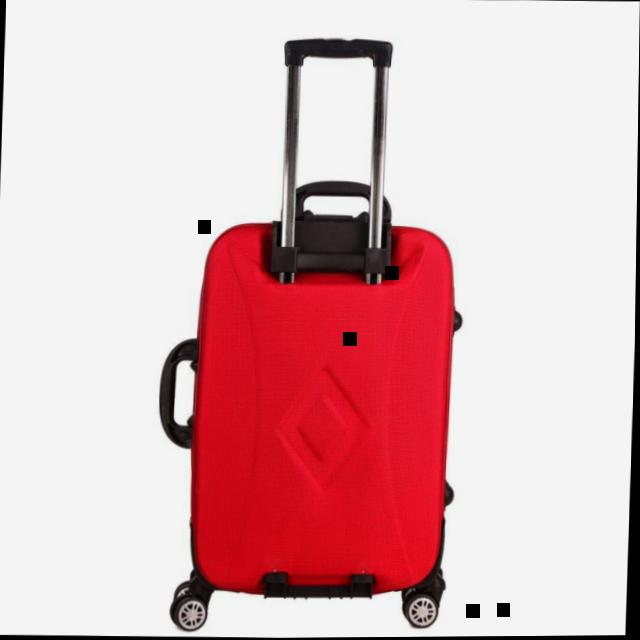luggage: (154, 171, 467, 608)
